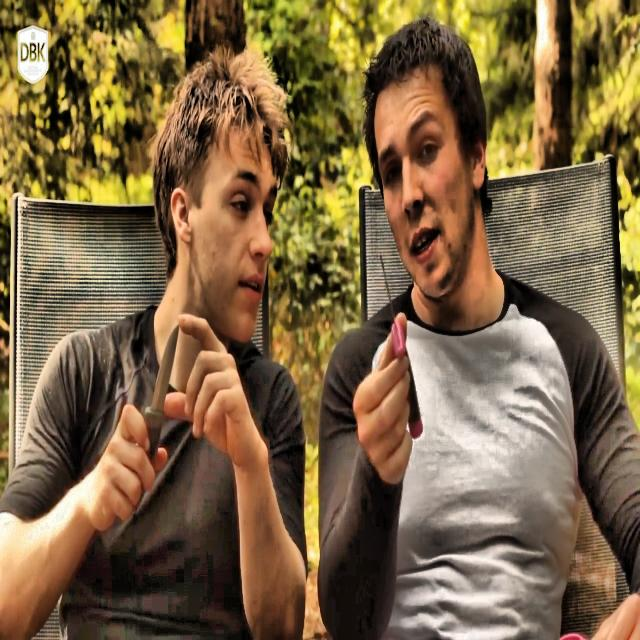knife: (380, 261, 426, 437), (138, 326, 179, 508)
